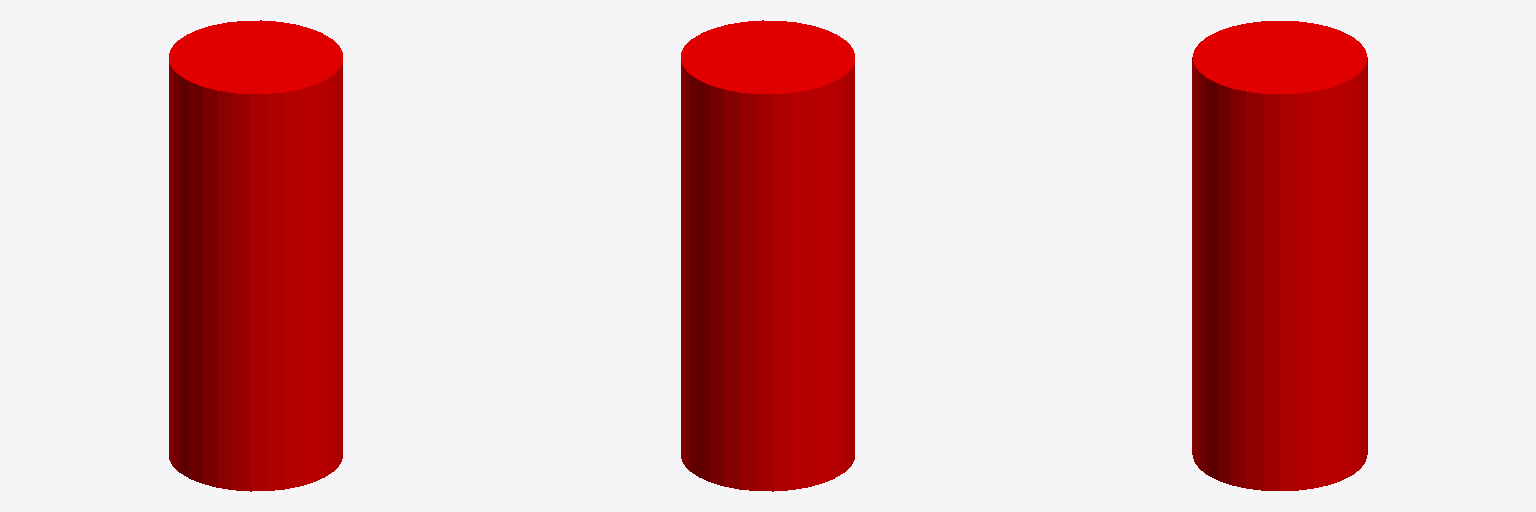
URDF robot description (cylinder):
<?xml version="1.0" ?>
<robot name="cylinder">
    <link name="post">
        <visual>
            <geometry>
                <cylinder radius="0.2" length="1.0"/>
            </geometry>
            <material name="red">
                <color rgba="1 0 0 1"/>
            </material>
        </visual>
    </link>
</robot>

--- What the picture shows (computed from the rendered views, not written in the file) ---
3 views of the same robot in one strip: view 1: azimuth 30°, elevation 25°; view 2: azimuth 150°, elevation 25°; view 3: azimuth 270°, elevation 25° (orthographic).
Robot: cylinder — 1 links, 0 joints (none); root link post; default pose: all joints at 0.
Links seen in each view (by area): view 1: post; view 2: post; view 3: post.
Link boxes in pixels (<box>): post: <box>169,20,342,491</box>; post: <box>681,20,854,491</box>; post: <box>1192,21,1367,490</box>.
Bounding box of the posed robot: 0.4 × 0.4 × 1 m (x, y, z).
Geometry: primitives only (box / cylinder / sphere), no mesh files.